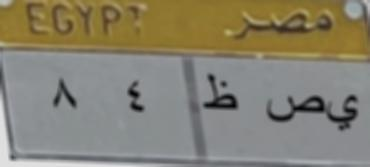4: (123, 71, 152, 120)
8: (46, 72, 84, 114)
Thaa: (202, 68, 242, 116)
saad: (265, 88, 324, 130)
yaa: (326, 87, 366, 132)
